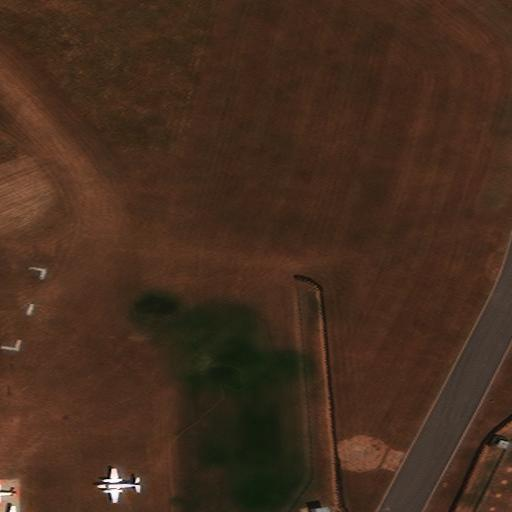Small Civil Transport: (96, 468, 141, 503), (0, 484, 16, 500)
